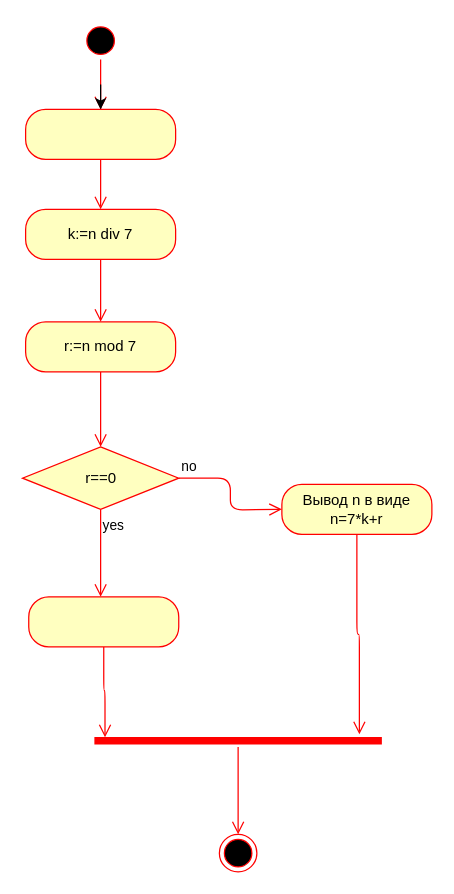
Some shapes in this 454 by 894 pixel diagram are drawn without their labels. The shapes that lost their labels are listed below. From the top down, each one's centre as x and y in pixels, then its label:
point (100, 133): Ввод n
point (103, 621): Вывод n в виде n=7*k
